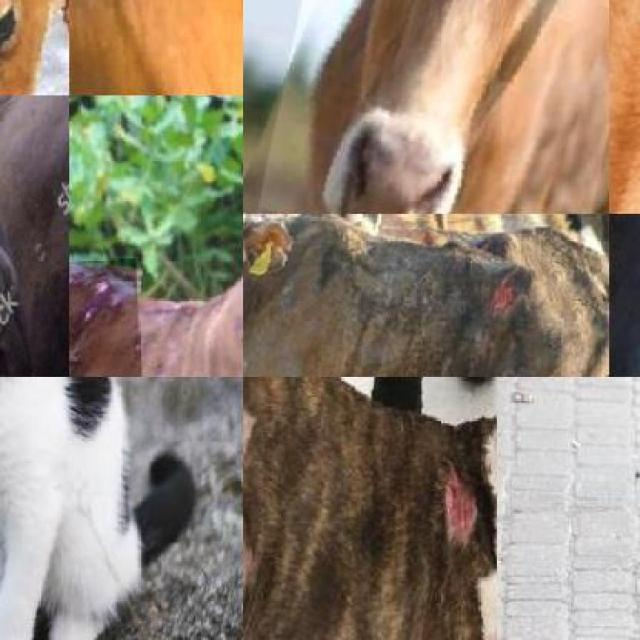cat: (0, 377, 183, 640)
cow: (249, 0, 609, 214), (243, 214, 609, 377), (69, 95, 243, 377)
dog: (243, 377, 497, 640)
injured: (440, 214, 531, 320), (69, 257, 143, 377), (426, 466, 466, 534), (477, 614, 497, 640)
